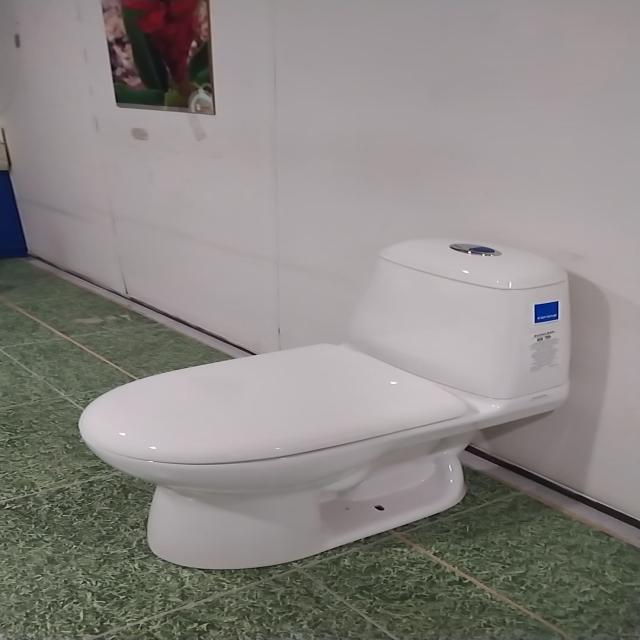toilet: (74, 234, 581, 574)
